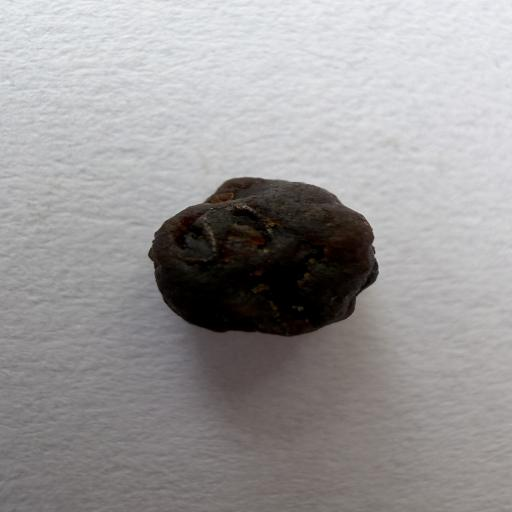Black_pepper: (102, 146, 420, 368)
